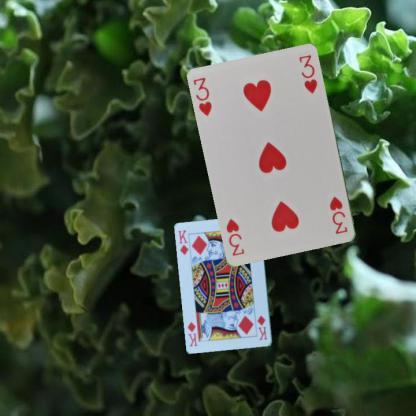3h: (190, 75, 214, 118), (327, 194, 349, 236)
Kd: (254, 313, 269, 342), (176, 228, 190, 257)
